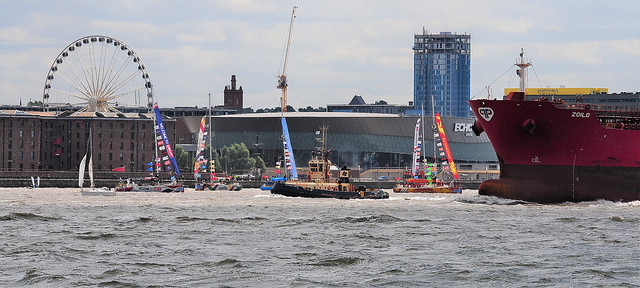tug_boat: (271, 138, 391, 207)
